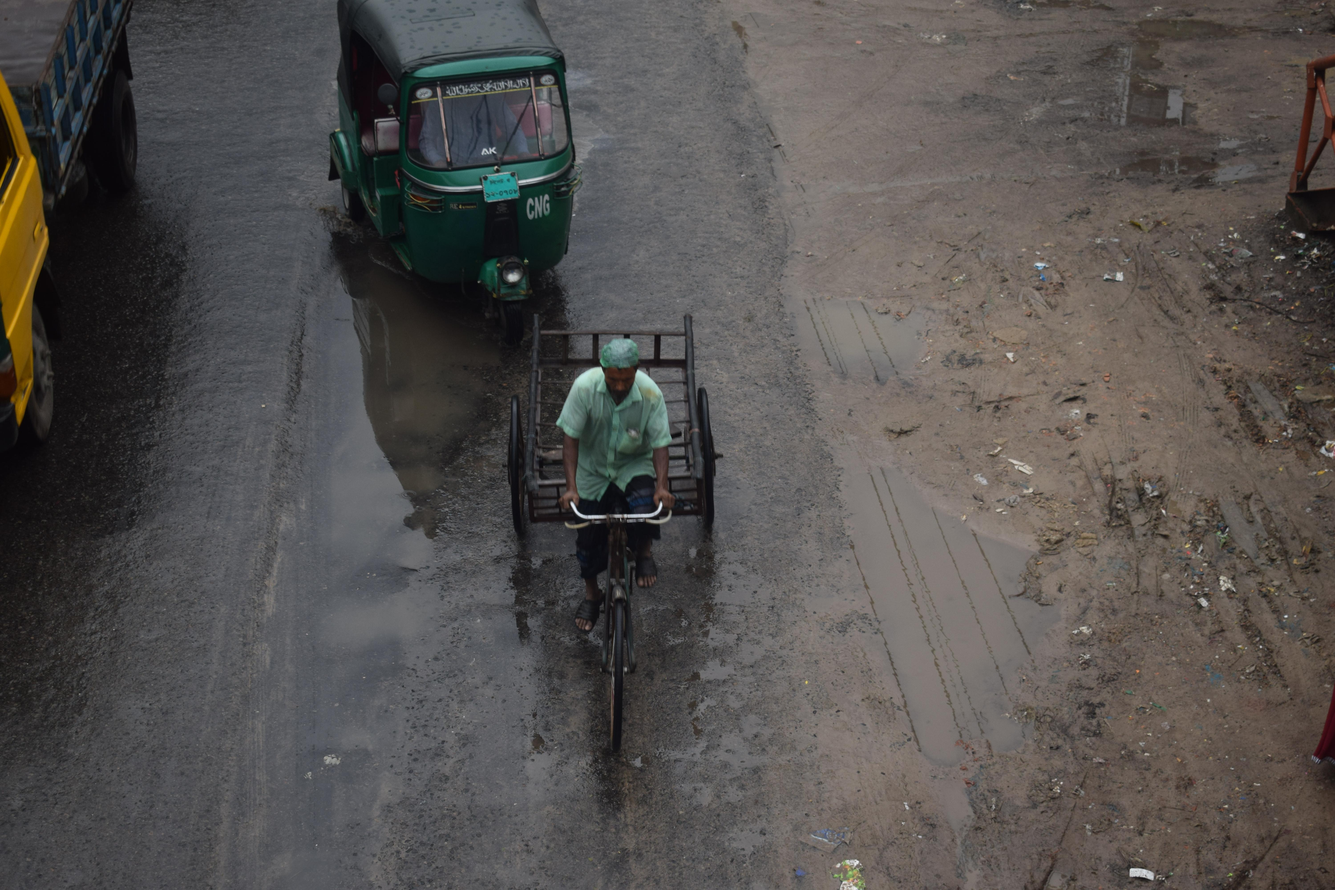Car: (473, 279, 783, 822)
Truck: (0, 0, 231, 548)
